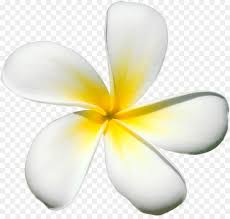frangipani: (1, 2, 230, 216)
